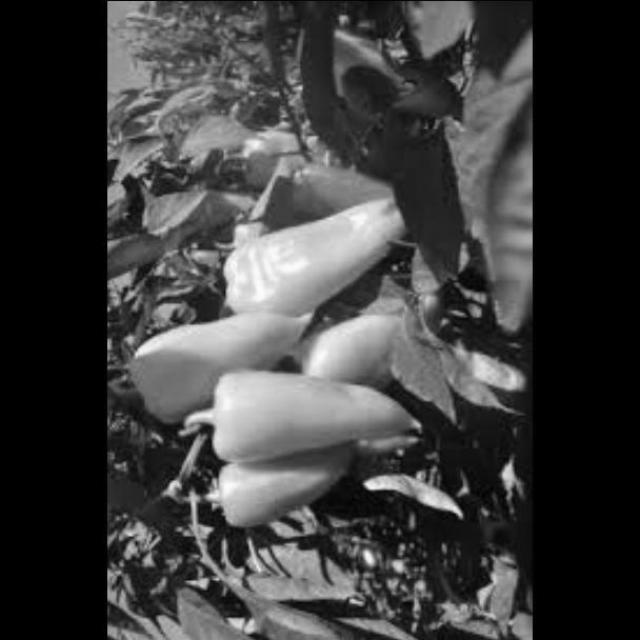bell pepper: (110, 303, 328, 430), (209, 195, 399, 332), (197, 351, 411, 466), (200, 433, 364, 546)
